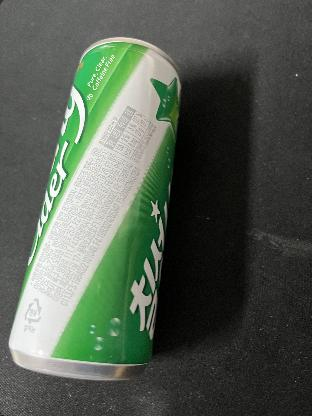Can: (8, 38, 184, 380)
